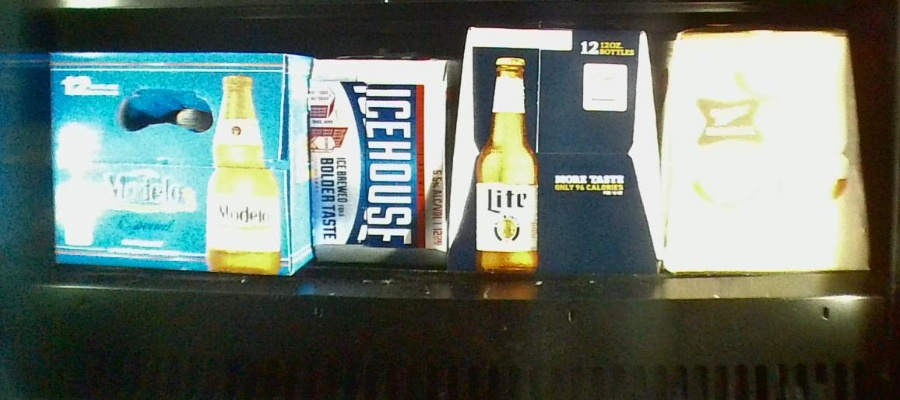bottle: (46, 54, 308, 279), (656, 28, 875, 275), (457, 25, 655, 272), (304, 59, 452, 266)
